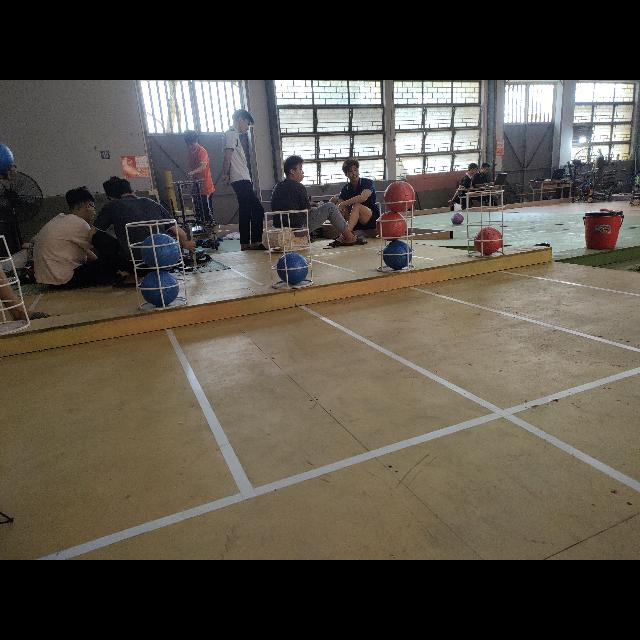B: (142, 234, 180, 270), (142, 271, 178, 305), (277, 252, 309, 284), (383, 240, 412, 270)
R: (383, 180, 415, 212), (377, 211, 408, 241), (474, 227, 502, 255)
